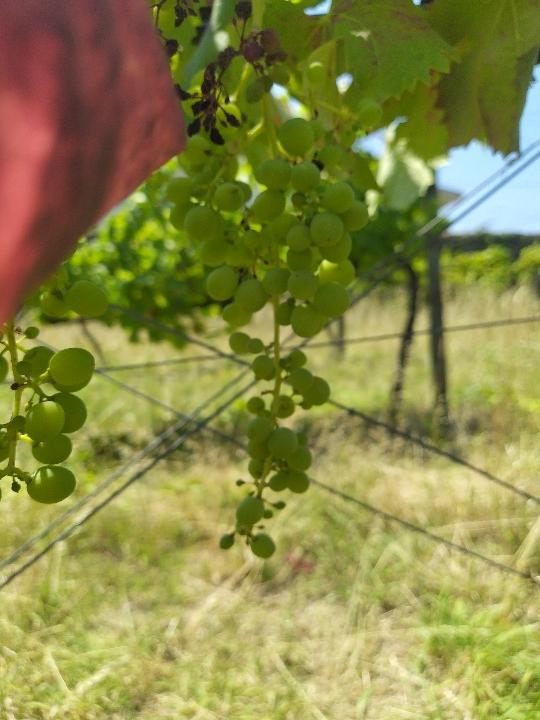grape: (157, 60, 388, 567), (149, 2, 286, 149)
